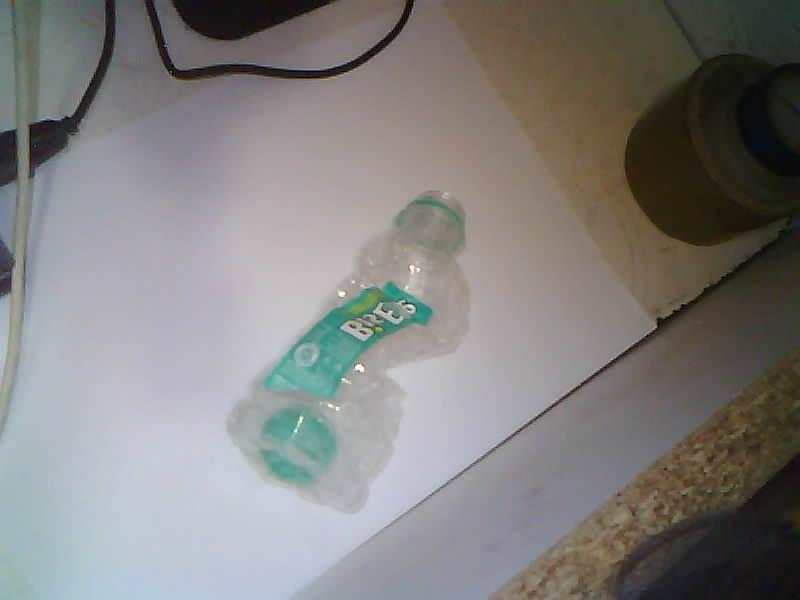non-biodegradable: (227, 192, 469, 512)
